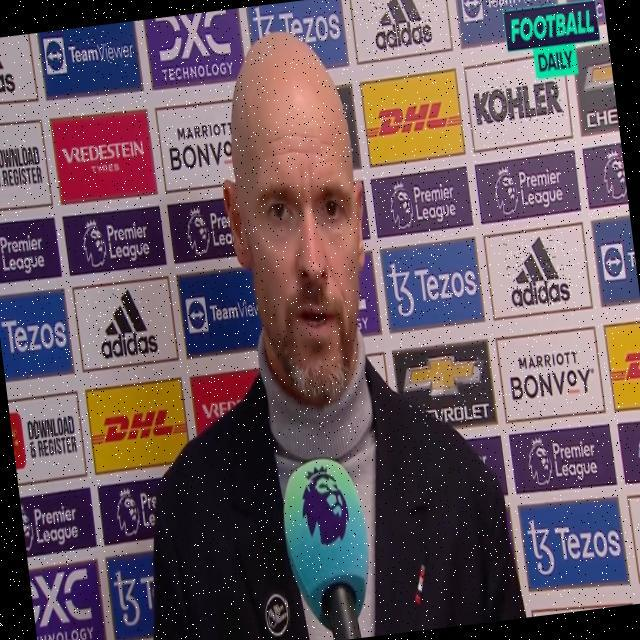Adidas: (503, 233, 573, 310), (93, 284, 160, 362), (367, 0, 433, 51)
Chevrolet: (403, 346, 492, 428)
Kohler: (471, 76, 565, 128)
TeamViewer: (43, 27, 137, 76), (460, 0, 555, 18)
